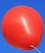Balloon: (2, 5, 45, 50)
